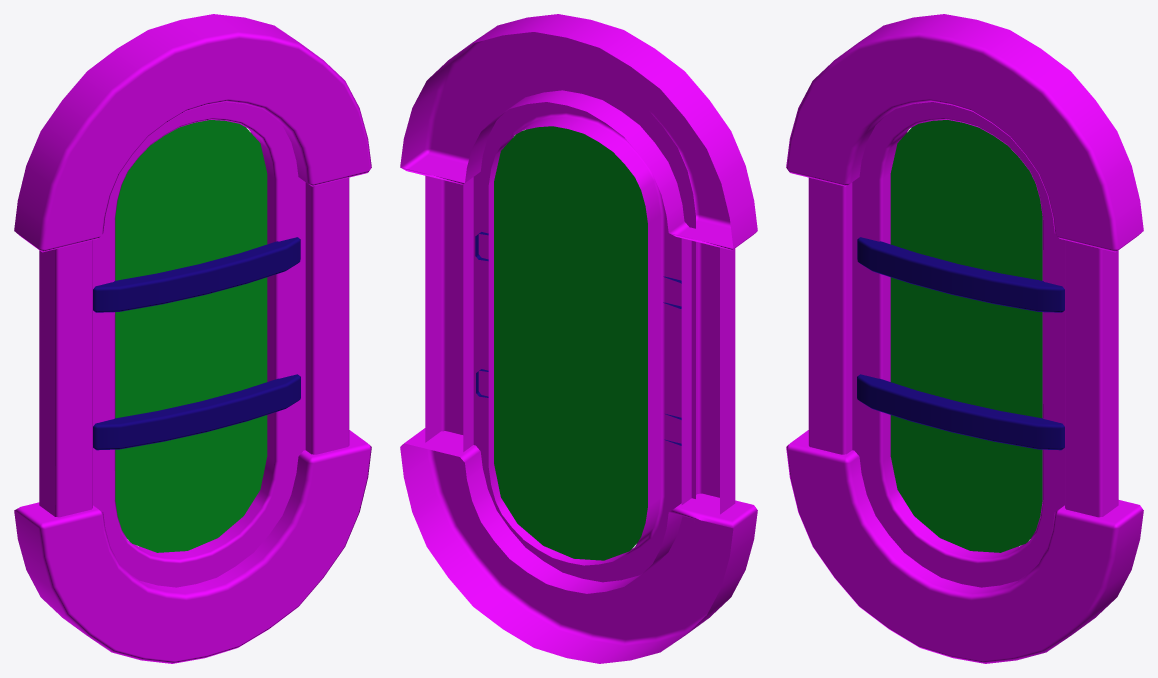
File: Fenetre_Simple_4x4x0_05.FBX
3 views of the same model, side by side, from view 1: azimuth 30°, elevation 25°; view 2: azimuth 150°, elevation 25°; view 3: azimuth 330°, elevation 25° (orthographic).
Parts seen in each view (by area): view 1: Fenetre_Simple_4x4x0_05; view 2: Fenetre_Simple_4x4x0_05; view 3: Fenetre_Simple_4x4x0_05.
Boxes of the visible parts, x1=… form: Fenetre_Simple_4x4x0_05: x1=14, y1=14, x2=371, y2=663; Fenetre_Simple_4x4x0_05: x1=400, y1=14, x2=757, y2=663; Fenetre_Simple_4x4x0_05: x1=786, y1=14, x2=1143, y2=663.
Size of the model in its own units: 112 by 199 by 16.08.
